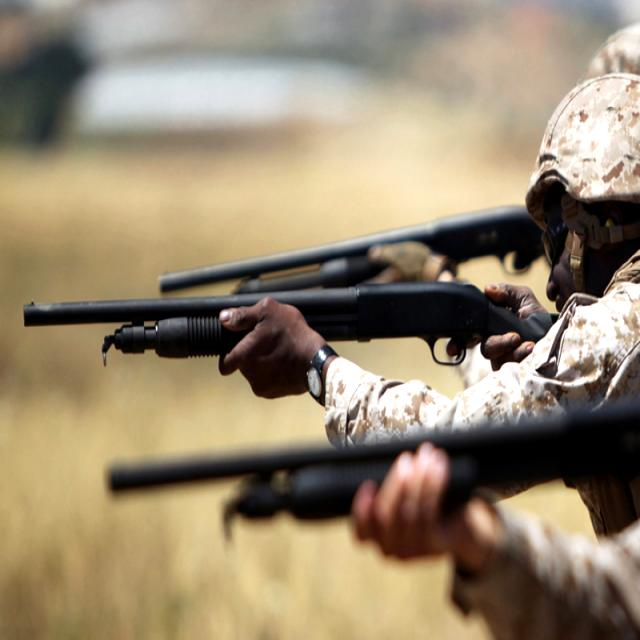shotgun: (77, 432, 633, 626), (8, 271, 584, 425)
